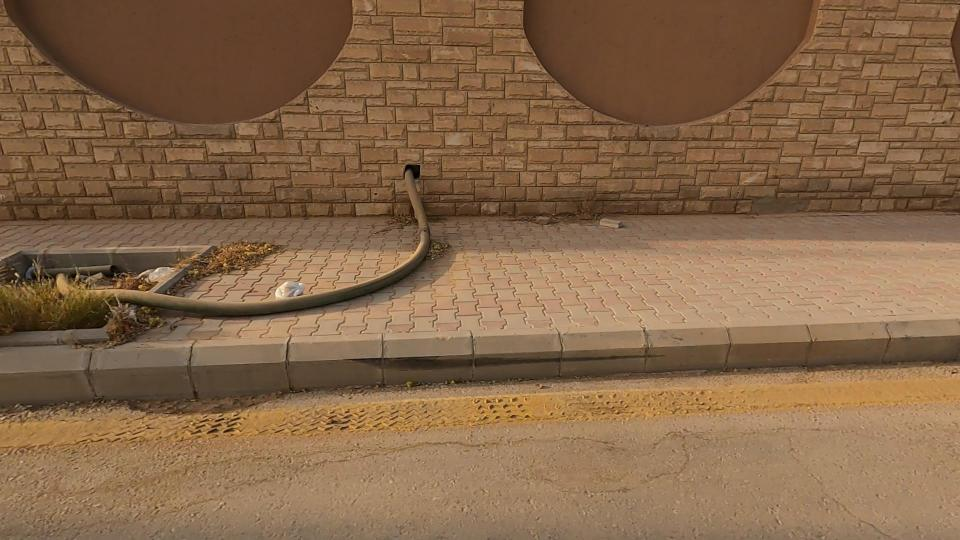GARBAGE: (0, 230, 155, 307), (101, 240, 216, 312), (244, 253, 342, 336)
